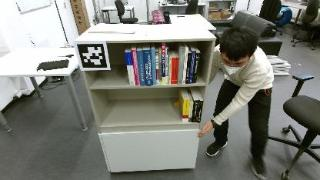book-spine: (124, 51, 136, 86), (143, 49, 153, 86), (176, 48, 185, 85), (131, 49, 140, 86), (137, 50, 145, 86), (192, 52, 200, 84), (182, 48, 189, 84), (189, 50, 196, 84), (185, 53, 191, 84), (151, 48, 156, 85), (182, 99, 190, 122), (192, 100, 199, 123), (165, 48, 169, 85), (197, 100, 203, 123), (155, 51, 159, 85), (171, 58, 176, 84), (162, 44, 165, 85), (168, 57, 172, 85), (159, 48, 162, 85), (175, 57, 179, 84), (188, 102, 192, 122), (190, 102, 194, 122)
